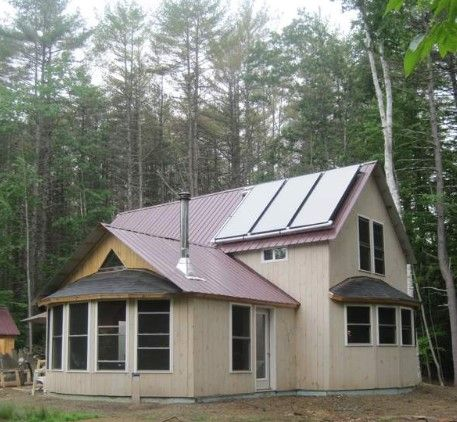Tin-shade House: (37, 158, 432, 396)
